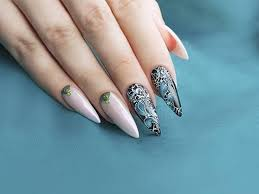nail: (99, 90, 140, 138), (126, 83, 161, 135), (61, 83, 102, 125), (149, 66, 183, 116), (162, 24, 189, 61)
